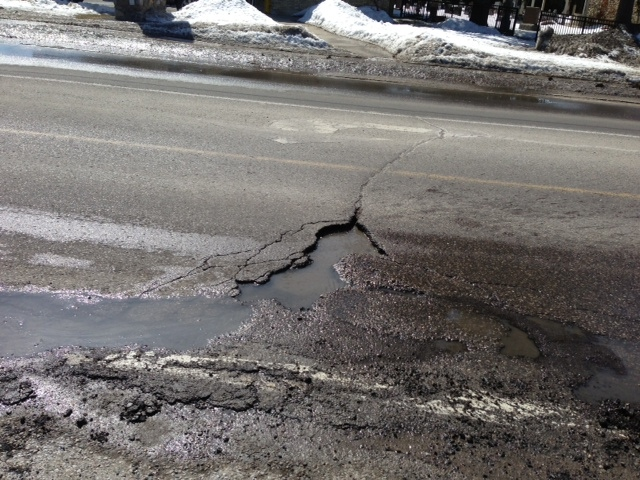pothole: (227, 196, 414, 324), (451, 287, 550, 370)
